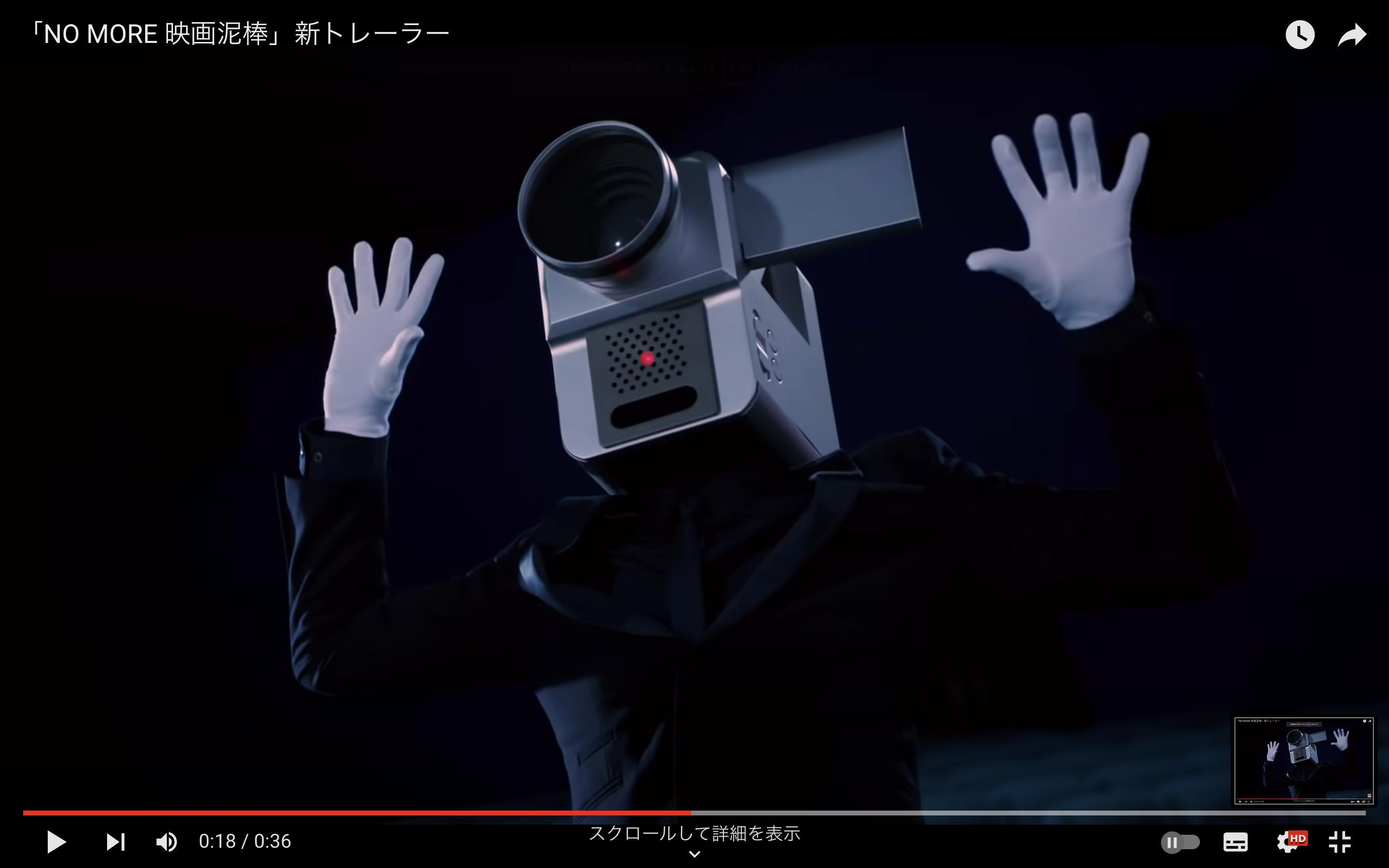no more kid: (508, 125, 920, 486)
